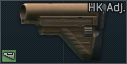HK Adjustable Buttstock: (0, 0, 127, 64)
